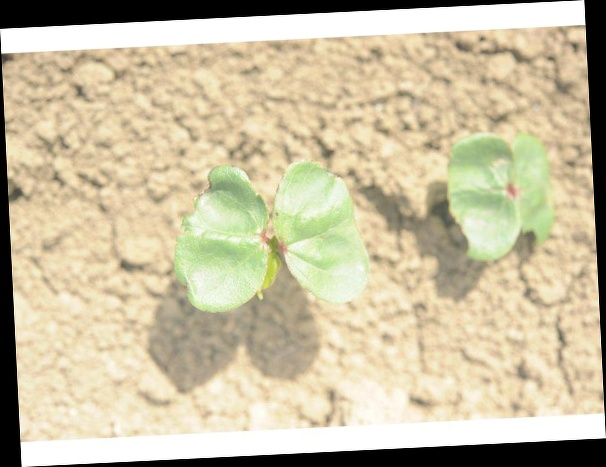cotton: (171, 159, 367, 309), (446, 130, 554, 261)
